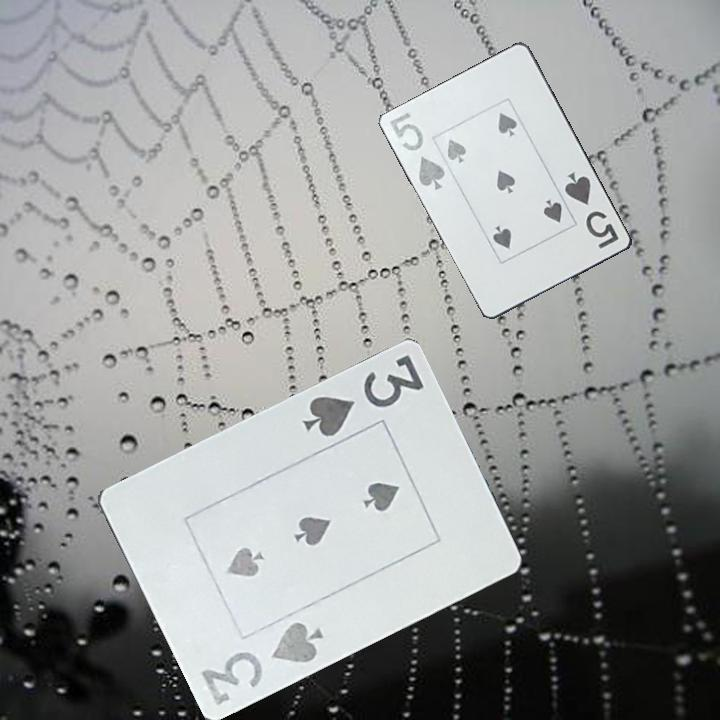3s: (197, 618, 327, 709), (298, 352, 427, 441)
5s: (386, 109, 448, 193), (561, 169, 622, 252)
